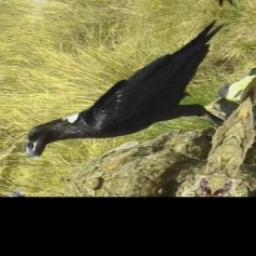Crow: (16, 1, 256, 179)
